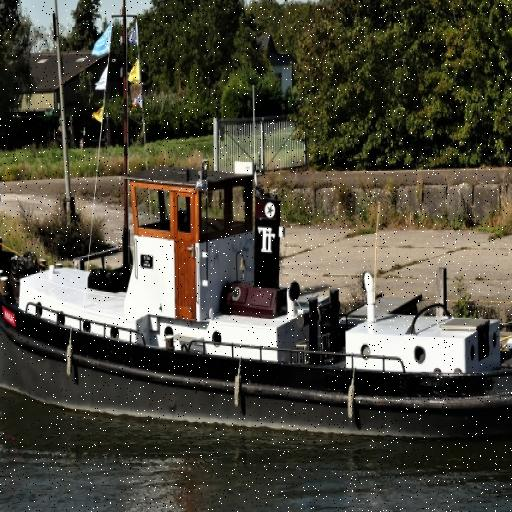tugboat: (1, 146, 512, 458)
